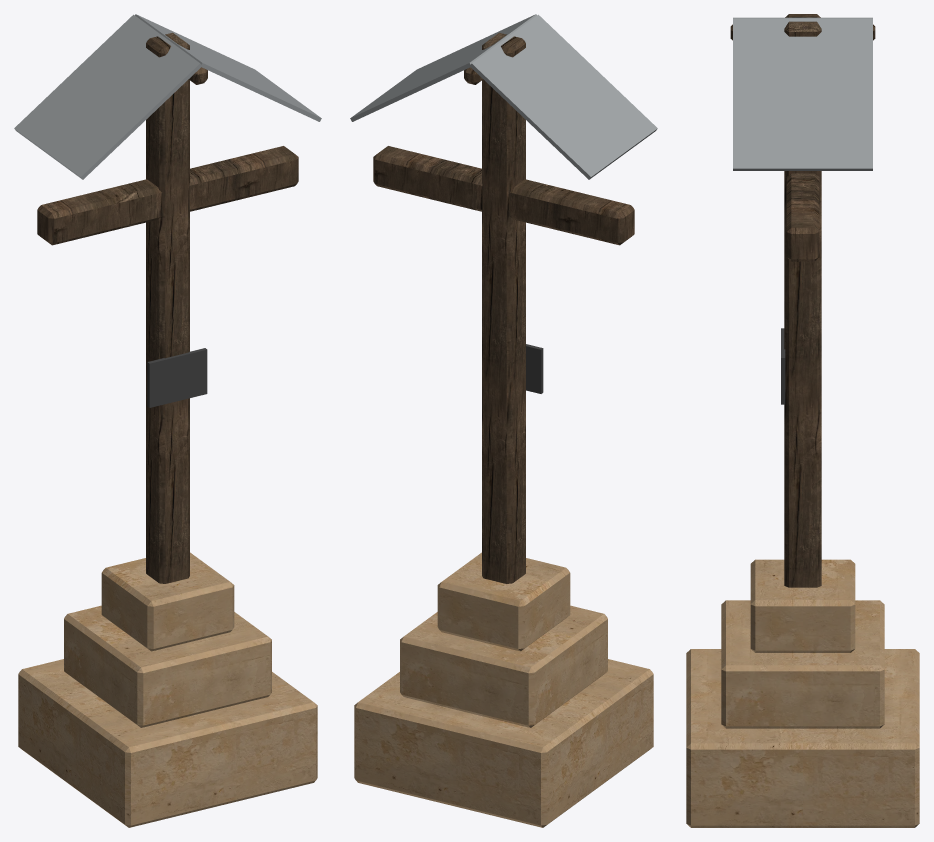
The model's file is wayside-cross.glb.
The picture shows the model from 3 angles, left to right: view 1: azimuth 30°, elevation 25°; view 2: azimuth 150°, elevation 25°; view 3: azimuth 270°, elevation 25°; orthographic projection. The views are drawn at different scales.
Visible parts, largest first — view 1: wayside-cross; view 2: wayside-cross; view 3: wayside-cross.
Part boxes in pixels (box(x1,y1,x2,y2)): wayside-cross: box(14, 14, 321, 827); wayside-cross: box(350, 14, 657, 827); wayside-cross: box(686, 14, 919, 827).
Size of the model in its own units: 1.3 by 3.61 by 1.
Materials: 4 (2 with a texture image).
